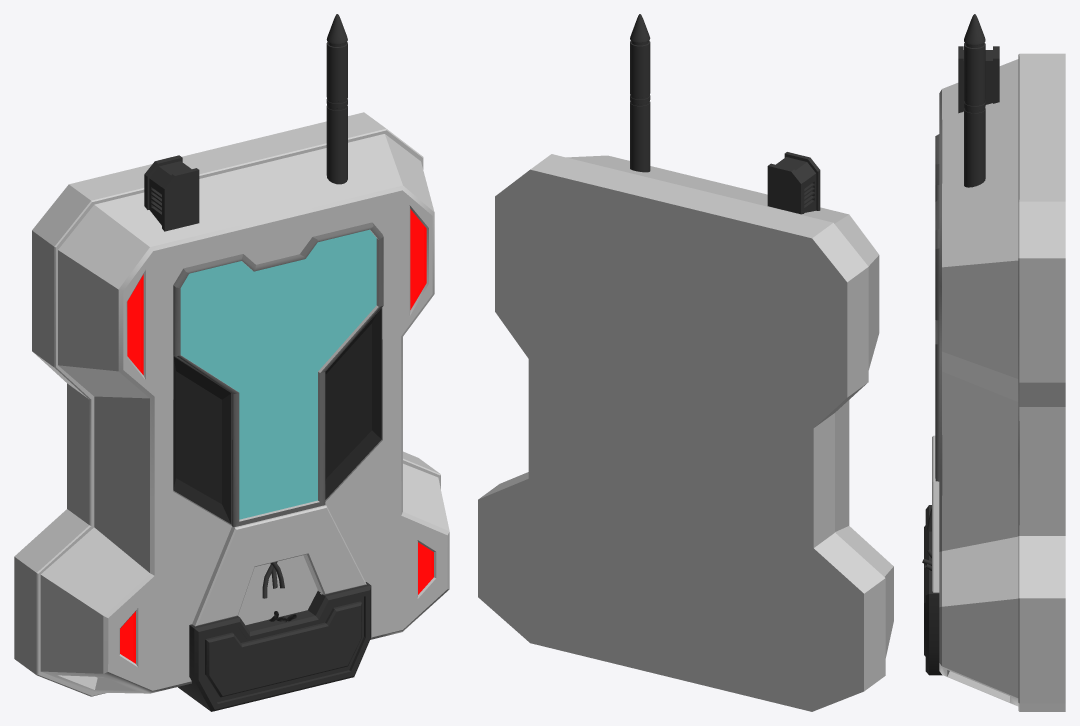
Rendered from Electric_Panel.fbx.
3 renders of one model, left to right at view 1: azimuth 30°, elevation 25°; view 2: azimuth 150°, elevation 25°; view 3: azimuth 270°, elevation 25°, orthographic. The views are drawn at different scales.
Parts seen in each view (by area): view 1: pPlane2; view 2: pPlane2; view 3: pPlane2.
Part boxes in pixels (box(x1,y1,x2,y2)): pPlane2: box(14, 14, 449, 711); pPlane2: box(478, 14, 893, 711); pPlane2: box(922, 14, 1065, 711).
Size of the model in its own units: 6.9 by 10.52 by 2.06.
